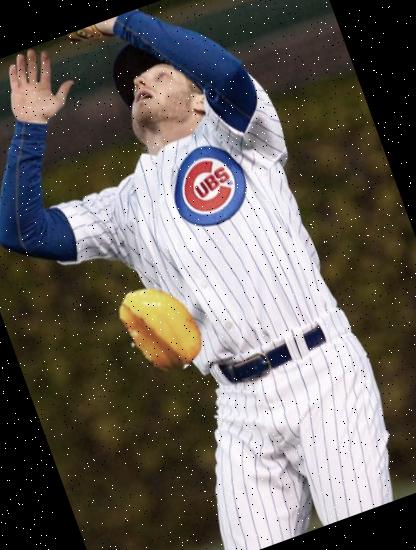Carambula: (99, 268, 219, 388)
